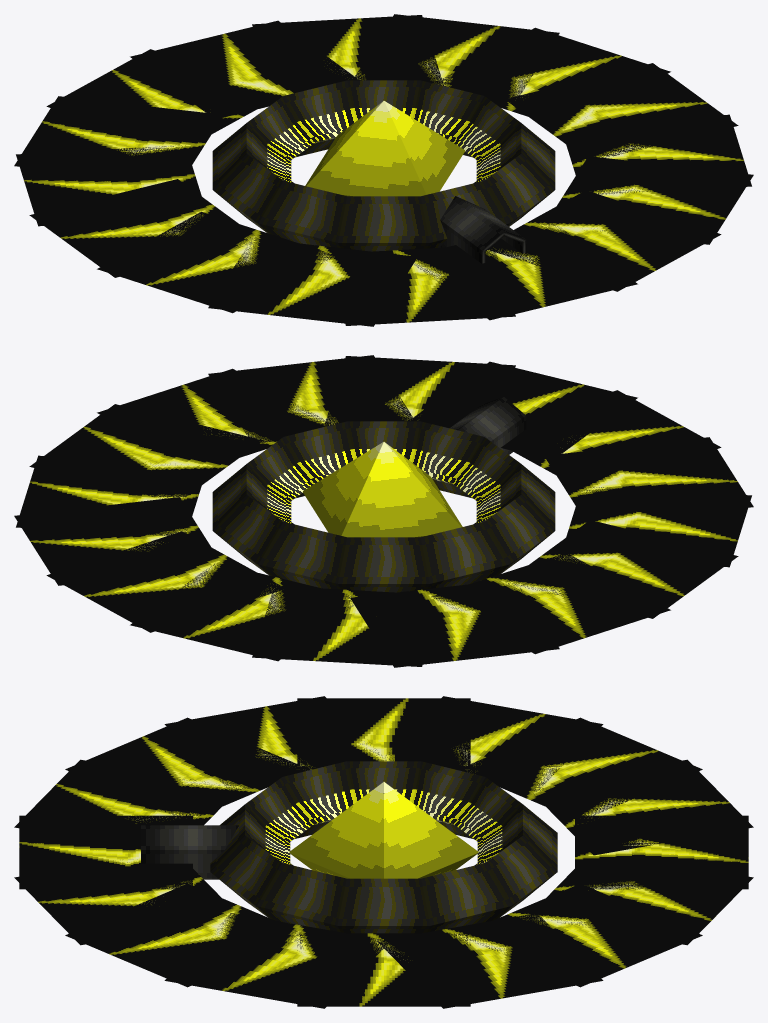
The model's file is airborne.fbx.
The picture shows the model from 3 angles, top to bottom: view 1: azimuth 30°, elevation 25°; view 2: azimuth 150°, elevation 25°; view 3: azimuth 270°, elevation 25°; orthographic projection.
Visible parts, largest first — view 1: torus, cube_1, cube_7, cube_8, cube_2, cube_5, cube_3, cube_15, cube, sphere, cube_4, cube_6 (+8 smaller); view 2: torus, cube_11, cube_1, cube_6, cube_4, cube_3, cube_2, cube_10, cube, sphere, cube_5, cube_7 (+8 smaller); view 3: torus, cube_6, cube_7, cube_4, cube_3, cube_2, cube_5, cube_13, cube_12, sphere, cube, cube_11 (+8 smaller).
Boxes of the visible parts, x1,y1,x2,y2 form: torus: (212, 80, 555, 251); cube_1: (505, 63, 738, 158); cube_7: (208, 239, 417, 326); cube_8: (488, 190, 721, 291); cube_2: (130, 20, 359, 117); cube_5: (355, 14, 559, 101); cube_3: (29, 179, 260, 277); cube_15: (97, 211, 336, 313); cube: (412, 222, 637, 320); sphere: (305, 101, 464, 196); cube_4: (557, 156, 753, 244); cube_6: (14, 96, 223, 171); torus: (212, 421, 555, 592); cube_11: (46, 531, 285, 632); cube_1: (29, 404, 262, 499); cube_6: (350, 581, 559, 667); cube_4: (208, 355, 412, 442); cube_3: (506, 520, 738, 618); cube_2: (130, 563, 355, 661); cube_10: (431, 552, 670, 654); cube: (408, 361, 637, 458); sphere: (303, 442, 462, 537); cube_5: (14, 497, 210, 585); cube_7: (544, 437, 753, 512); torus: (210, 761, 557, 933); cube_6: (458, 717, 702, 817); cube_7: (65, 717, 309, 818); cube_4: (65, 883, 306, 987); cube_3: (297, 698, 470, 771); cube_2: (575, 815, 748, 889); cube_5: (461, 883, 702, 987); cube_13: (378, 913, 603, 1008); cube_12: (164, 913, 390, 1008); sphere: (289, 782, 478, 878); cube: (19, 815, 192, 889); cube_11: (538, 859, 753, 945).
Size of what is drawn, in the model's own units: 266 by 56.25 by 266.
4 materials, 4 textured.
